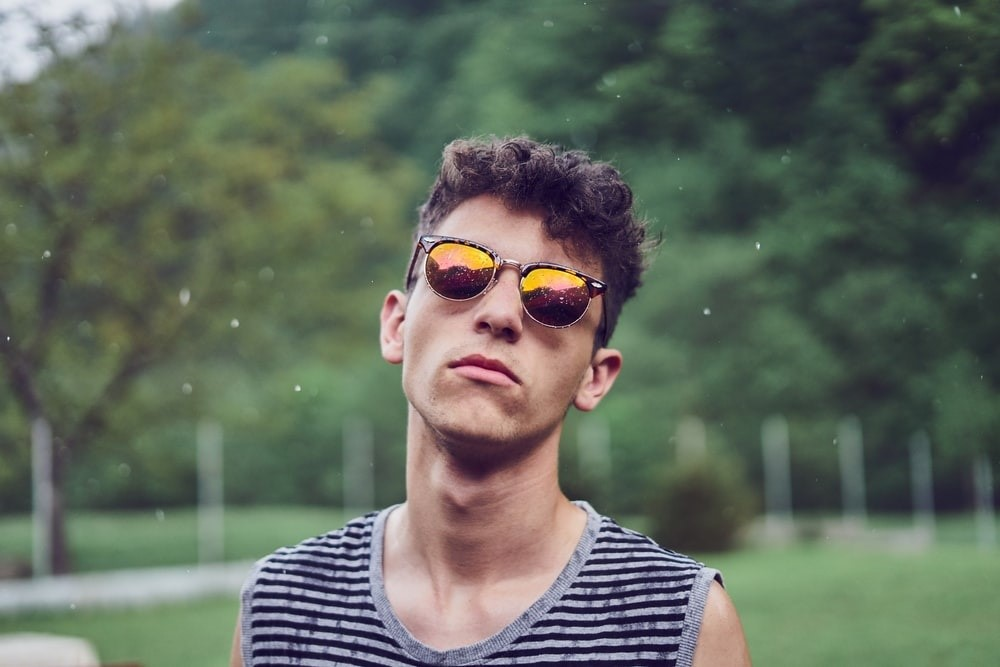face_no_mask: (403, 166, 609, 449)
